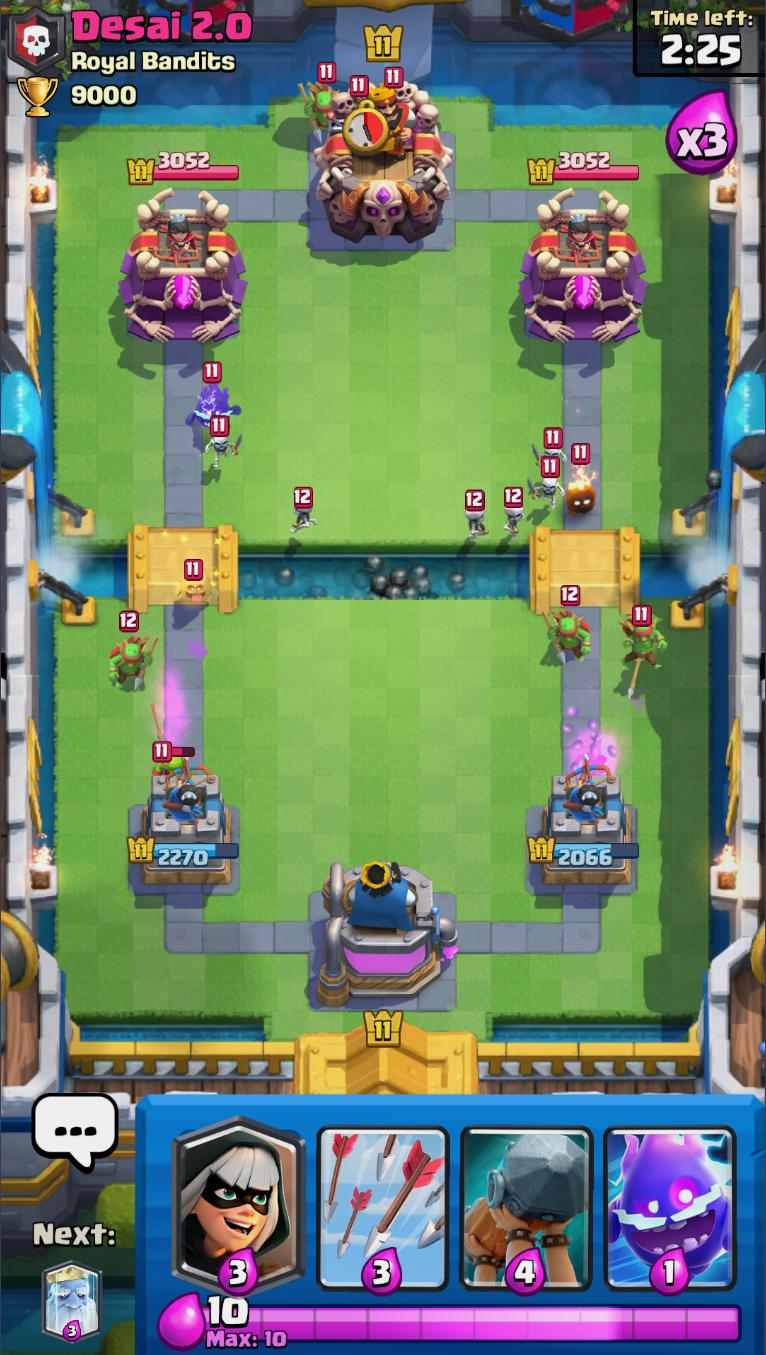ArrowDeck: (310, 1100, 454, 1293)
BanditDeck: (163, 1098, 313, 1290)
BattleRamDeck: (455, 1098, 599, 1297)
ElectroSpirit: (188, 362, 242, 437)
ElectroSpiritDeck: (597, 1095, 744, 1293)
Elixir: (203, 1285, 252, 1328)
EnemyTower: (522, 190, 650, 348), (120, 197, 238, 347)
FireSpirit: (562, 442, 597, 520)
Goblin: (148, 740, 195, 790)
HealSpirit: (175, 557, 213, 613)
KingTower: (313, 73, 450, 257)
MyKingTower: (315, 860, 462, 1010)
MyPrincessTower: (122, 773, 240, 892), (530, 767, 642, 887)
MyPrincessTowerHP: (128, 837, 238, 867), (532, 838, 642, 867)
PrincessTower: (555, 210, 605, 268), (157, 210, 205, 267)
RoyaleGhostNext: (42, 1257, 103, 1343)
Skeleton: (202, 415, 245, 465), (527, 457, 565, 510), (529, 424, 572, 466), (285, 487, 318, 538), (460, 492, 490, 540), (503, 485, 527, 540)
SpearGoblin: (547, 585, 595, 660), (297, 62, 340, 140), (110, 612, 153, 688), (620, 605, 665, 672)
TowerPrincessHP: (128, 145, 240, 185), (527, 150, 642, 188)
